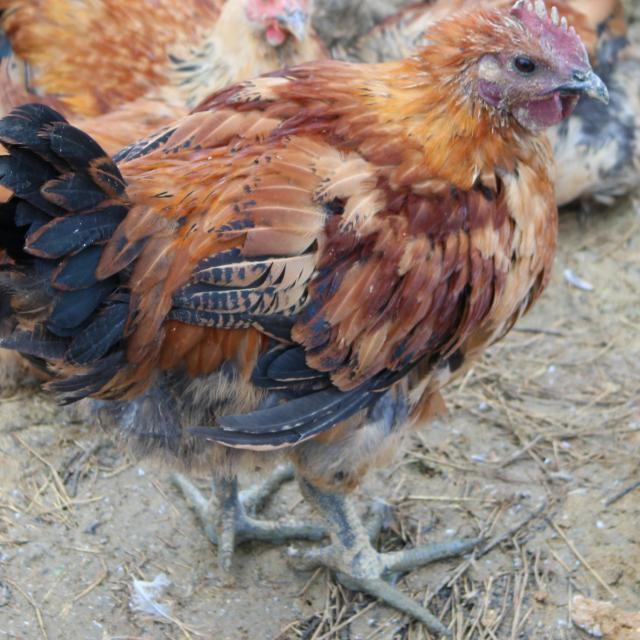cook: (0, 1, 607, 632)
